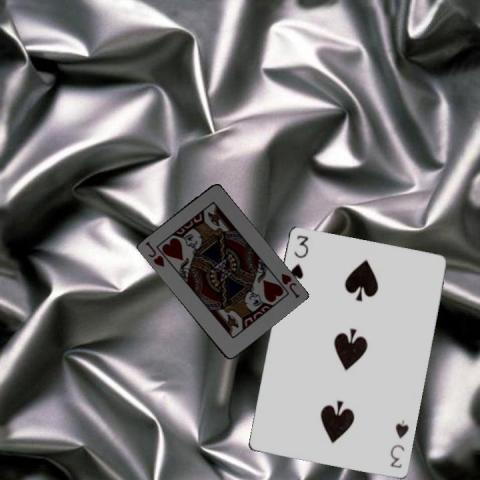3s: (387, 418, 411, 470), (286, 232, 310, 283)
Jh: (141, 239, 166, 268), (277, 270, 301, 300)
